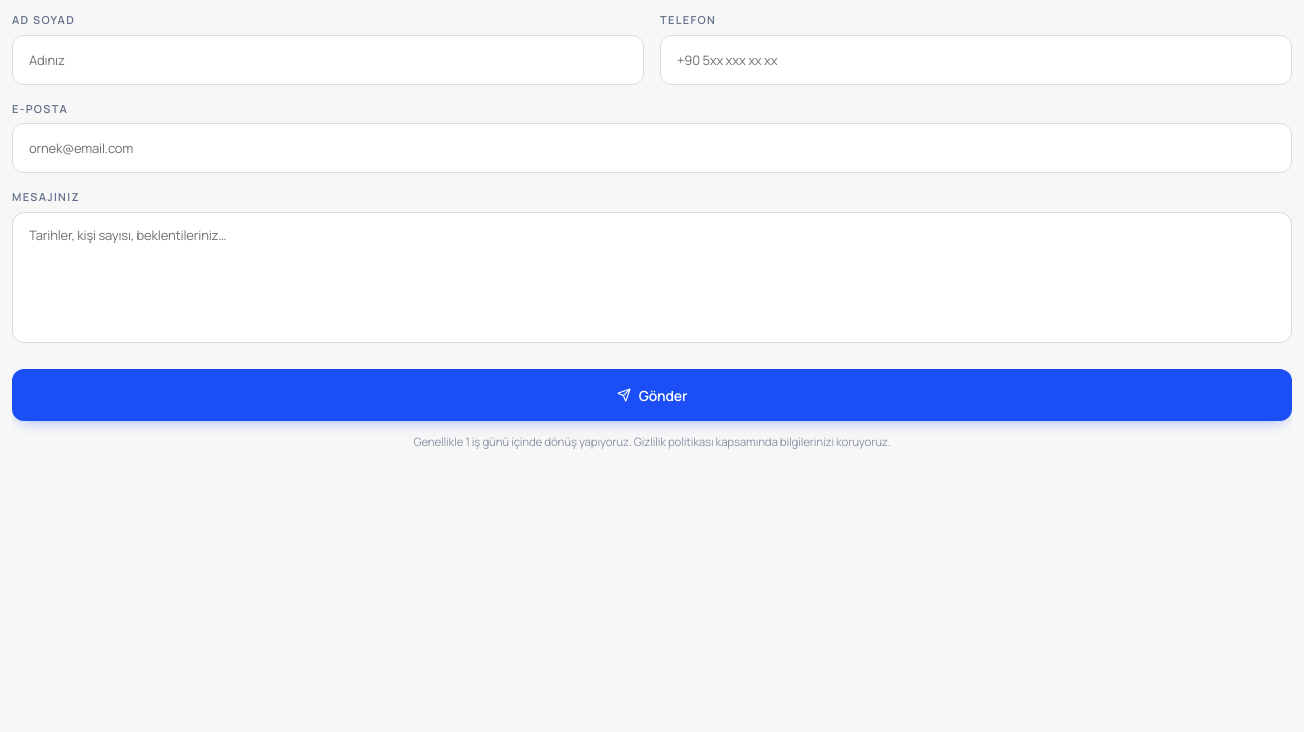
Test: ContactForm — çoklu dil › 34) tr: başarı mesajı kendi dilinde
In the field with placeholder "Adınız": (328, 60) [12, 34, 644, 84], type "Ad Soyad"
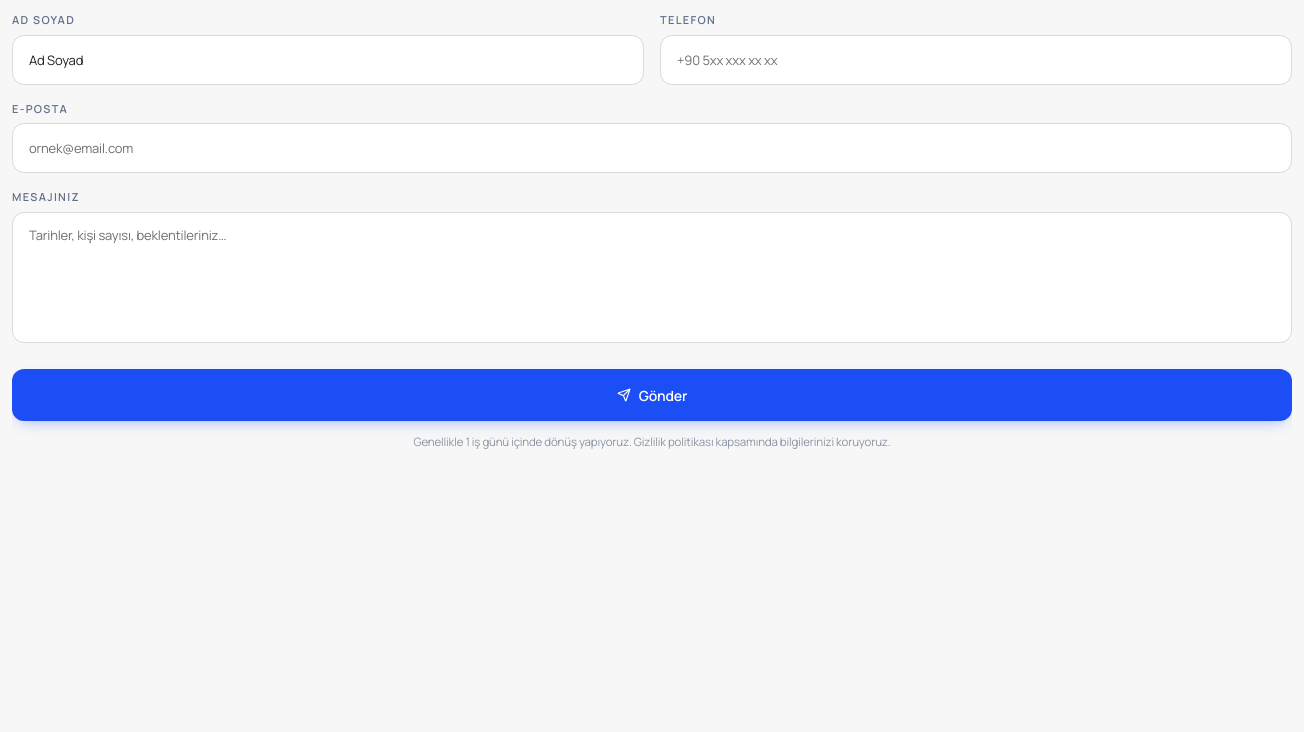
In the field with placeholder "ornek@email.com": (652, 148) [12, 123, 1292, 173], type "a@b.com"
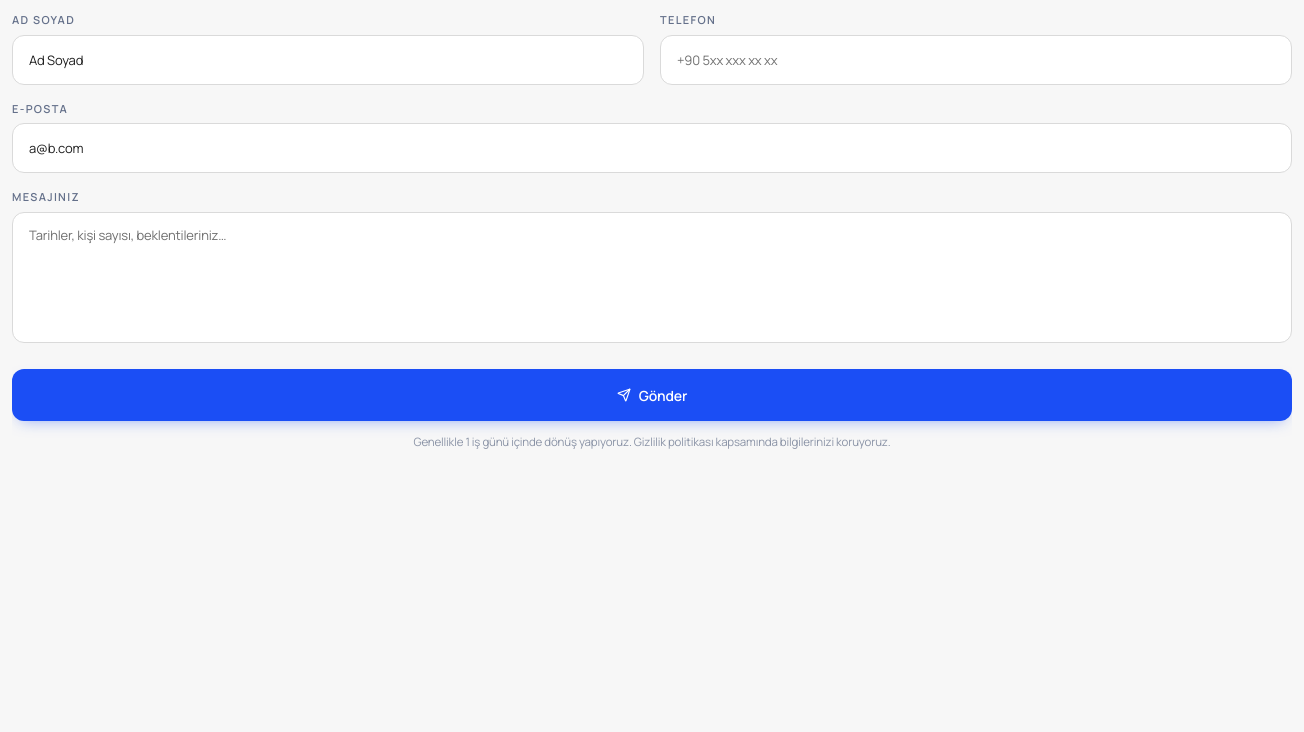
In the text box with placeholder "Tarihler, kişi sayısı, beklentileriniz…": (652, 277) [12, 212, 1292, 343], type "On karakterden uzun bir mesaj."
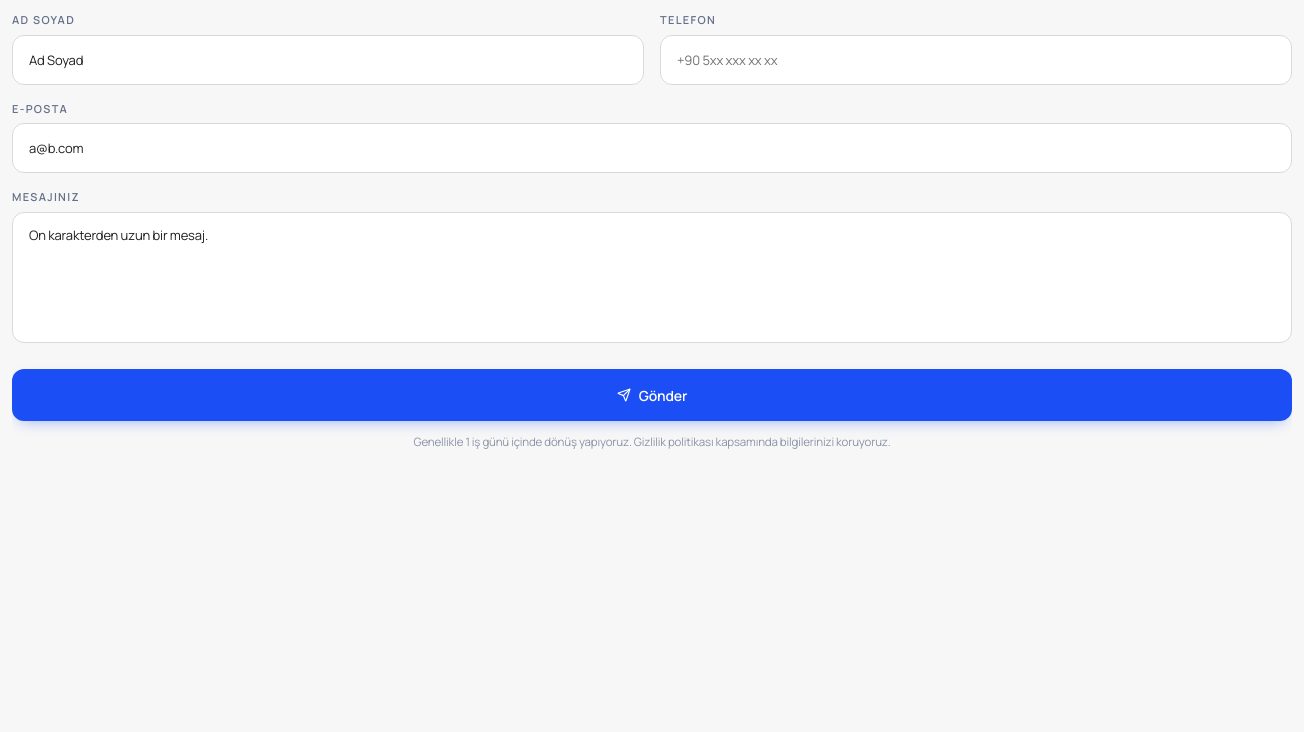
Submit the text "Gönder", box [12, 12, 1292, 452]
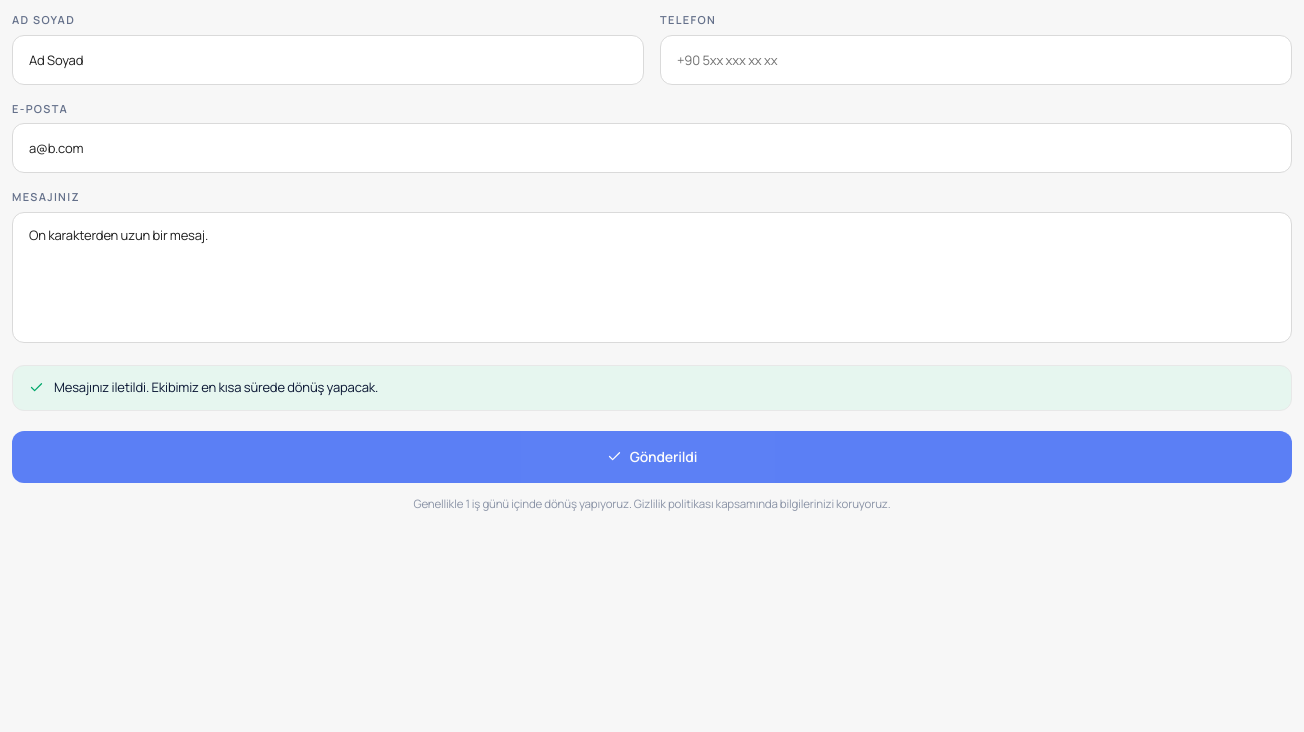
Now the text "Mesajınız iletildi. Ekibimiz en kısa sürede dönüş yapacak." is shown, box [54, 378, 378, 398]
Now the button "Gönderildi" is shown, box [12, 431, 1292, 483]
